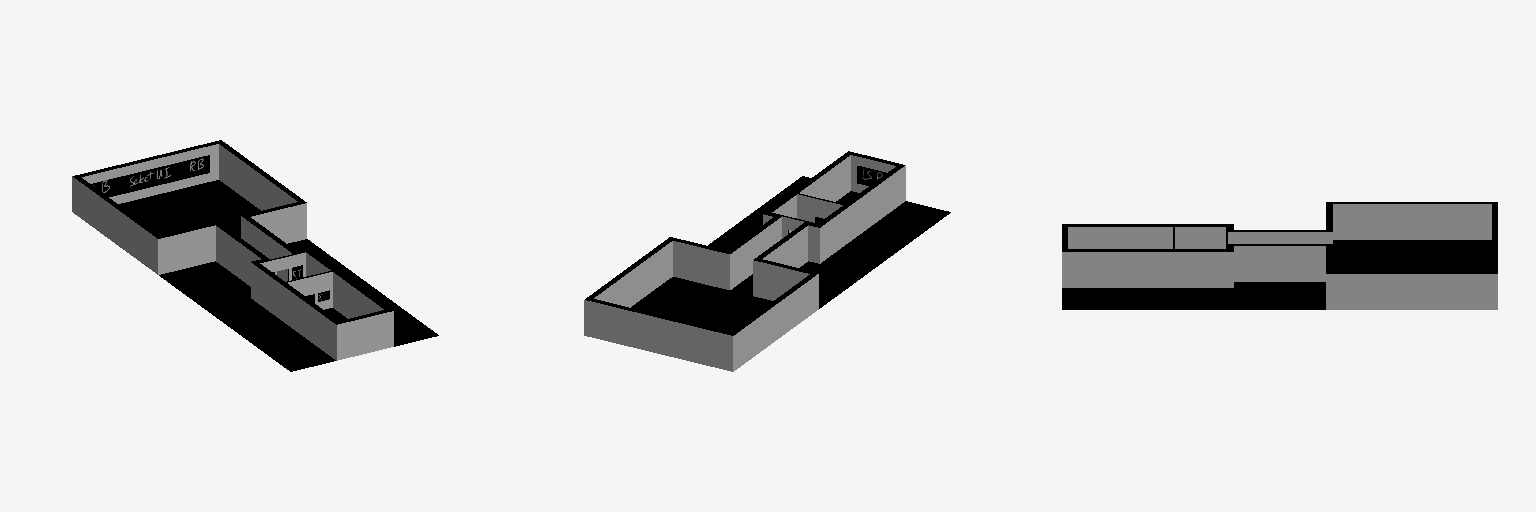
The picture shows the model from 3 angles: view 1: azimuth 30°, elevation 25°; view 2: azimuth 150°, elevation 25°; view 3: azimuth 270°, elevation 25°; orthographic projection.
Parts seen in each view (by area): view 1: Boundaries_Plane.002; view 2: Boundaries_Plane.002; view 3: Boundaries_Plane.002.
Part boxes in pixels (x1,y1,x2,y2): Boundaries_Plane.002: (72, 140, 438, 371); Boundaries_Plane.002: (584, 151, 950, 371); Boundaries_Plane.002: (1062, 202, 1497, 309).
Bounding box in the file's own units: 26 × 6 × 66.
2 materials, 1 textured.